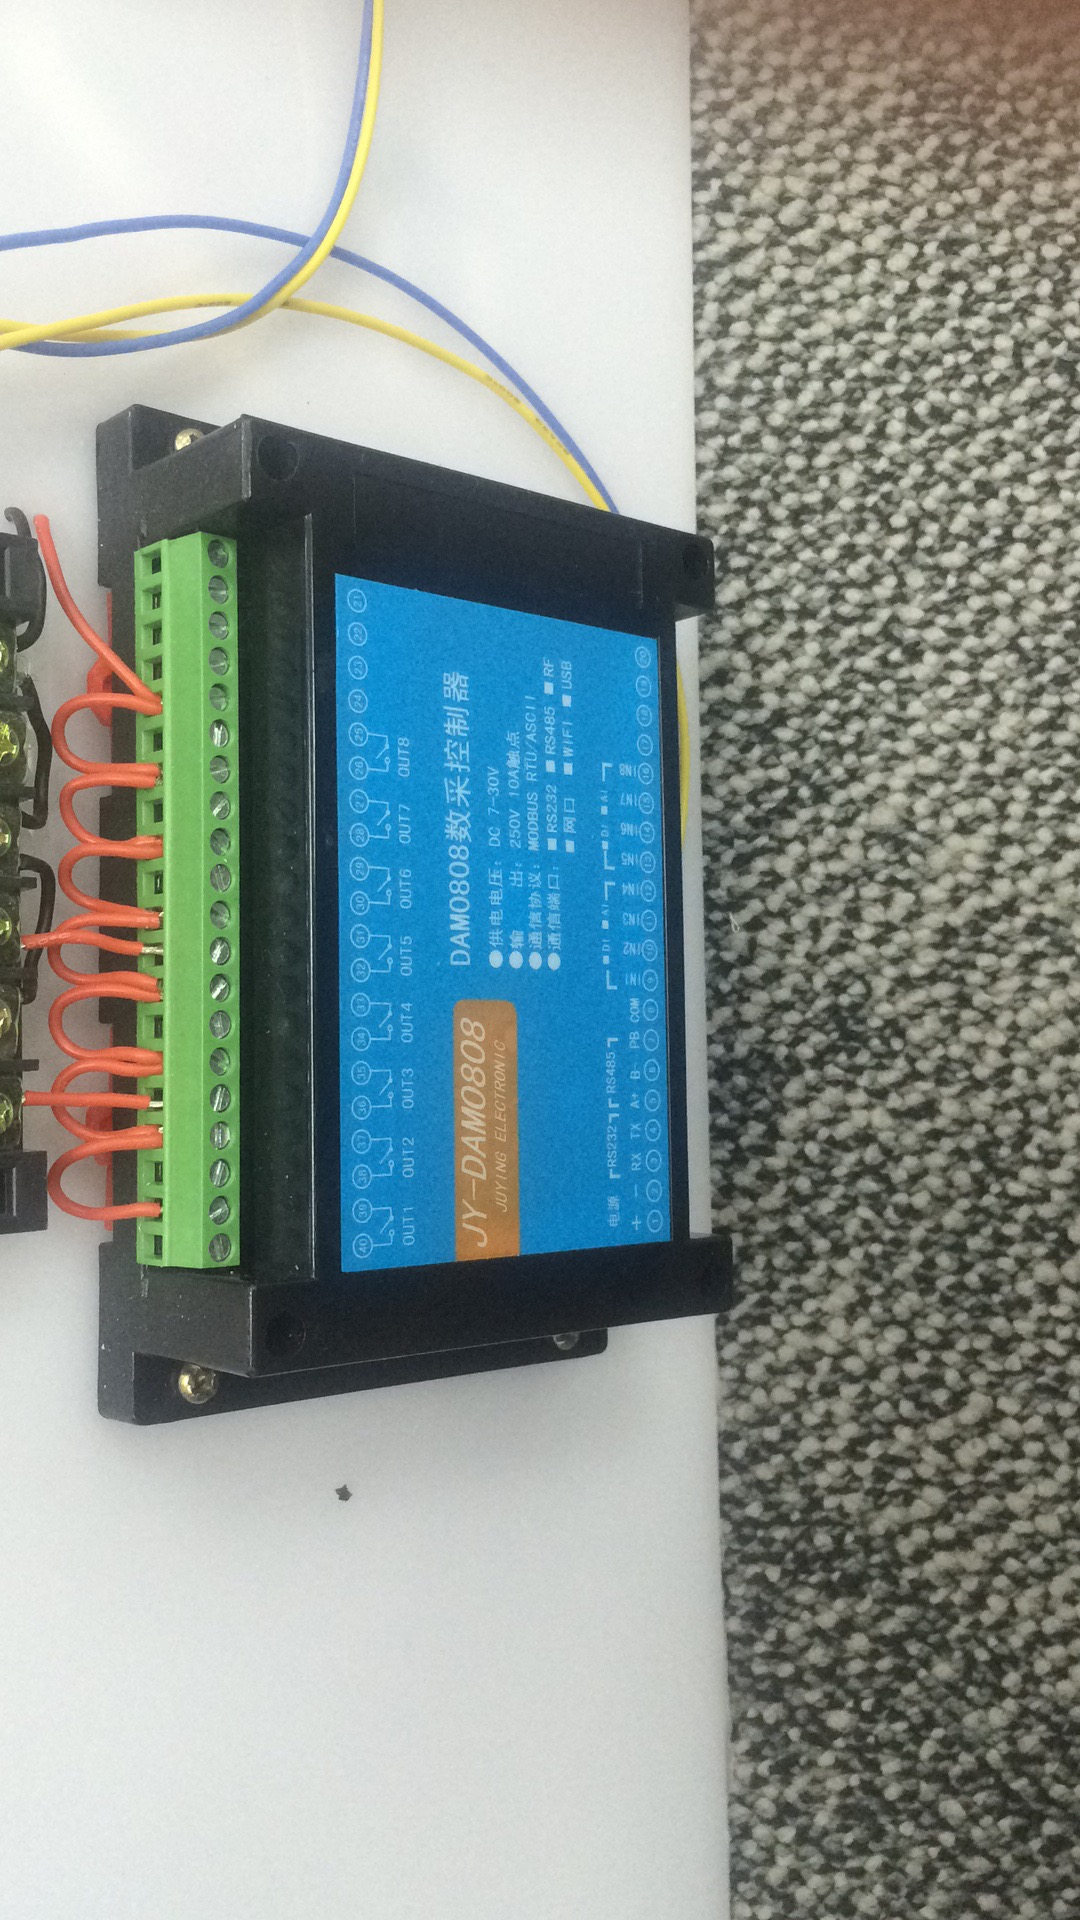relay: (83, 398, 699, 1443)
